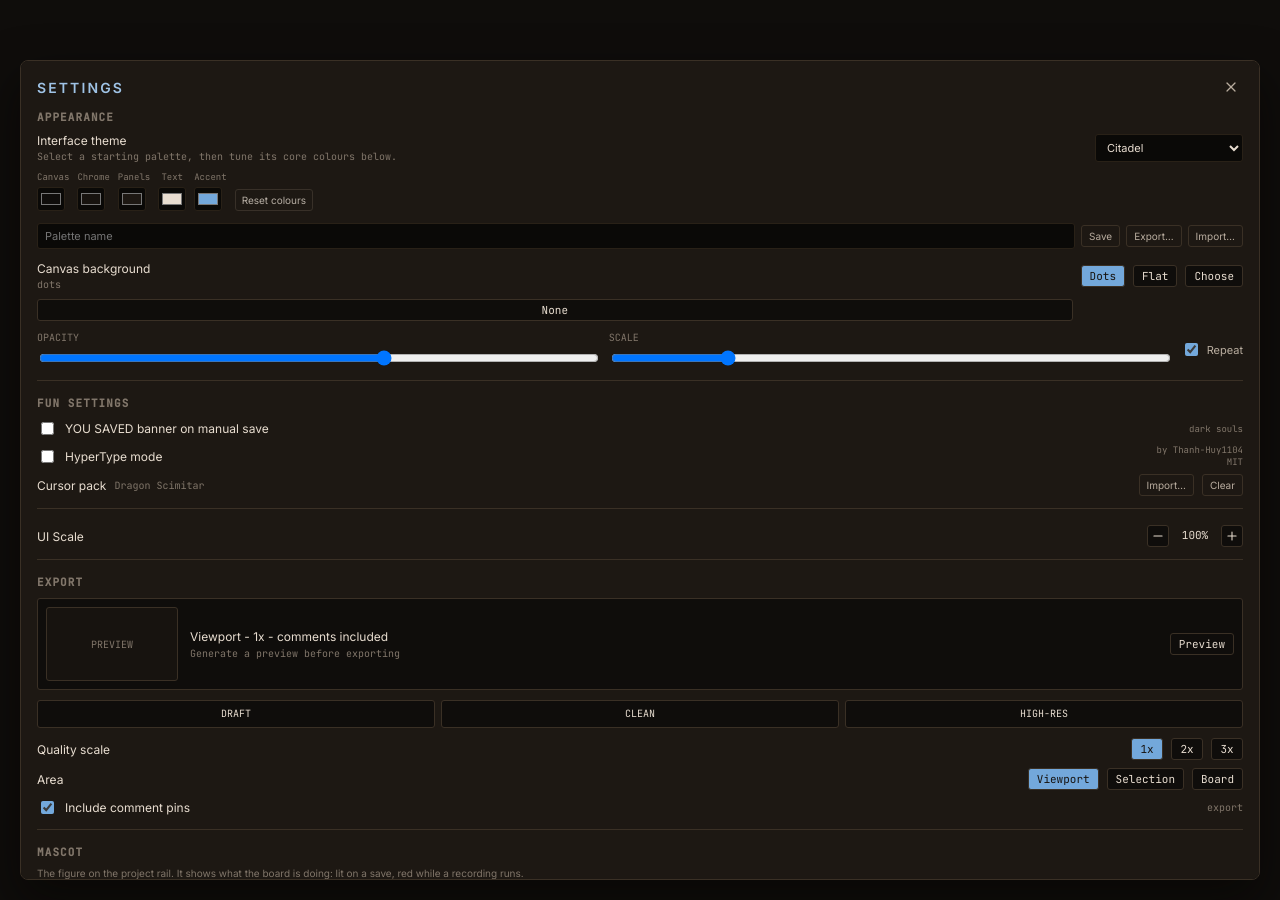
importing a cursor pack › clears back to the system cursors
Click the button "Clear": (1222, 485) [1202,474,1243,496]
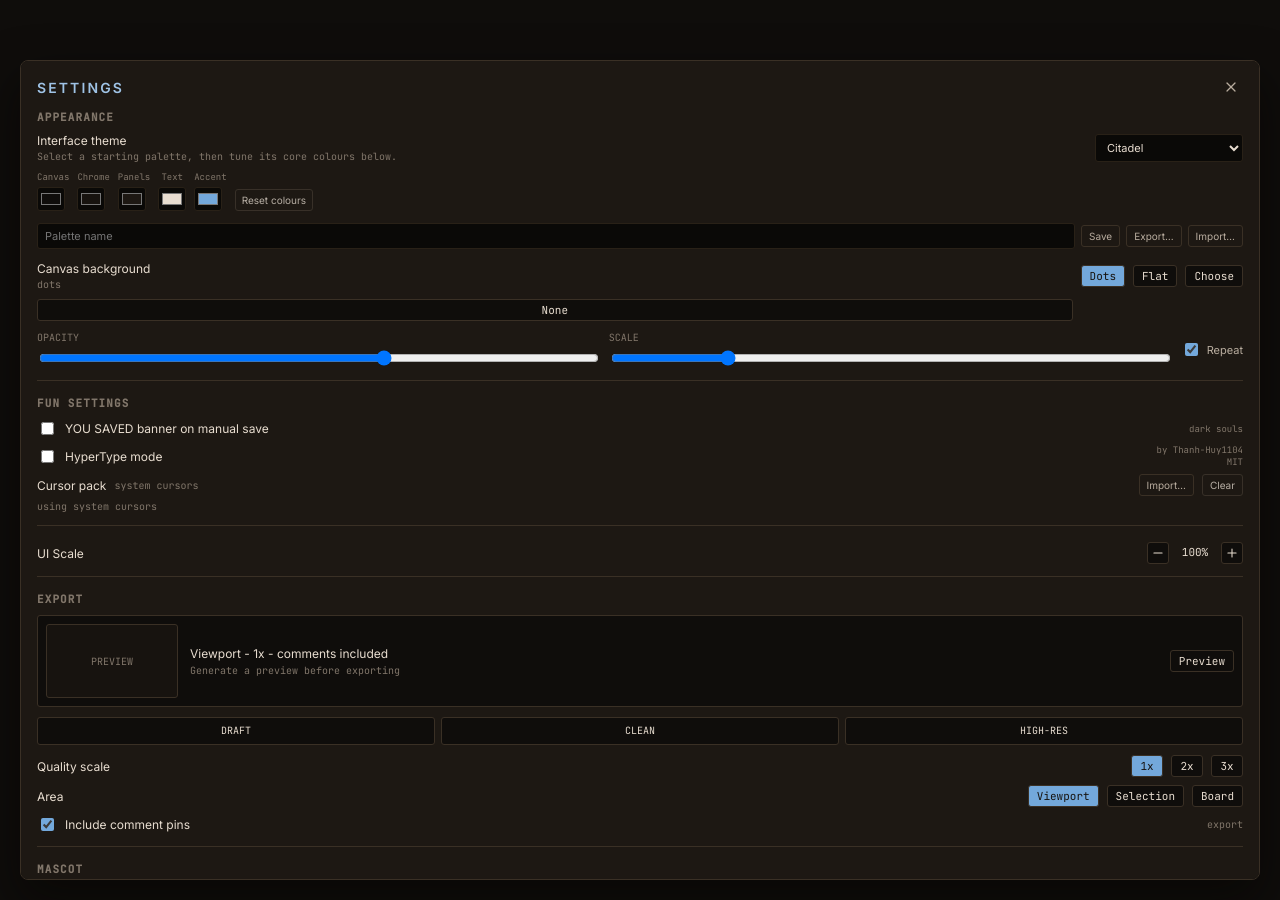
Result: the text "using system cursors" is shown at [37,500,157,513]
